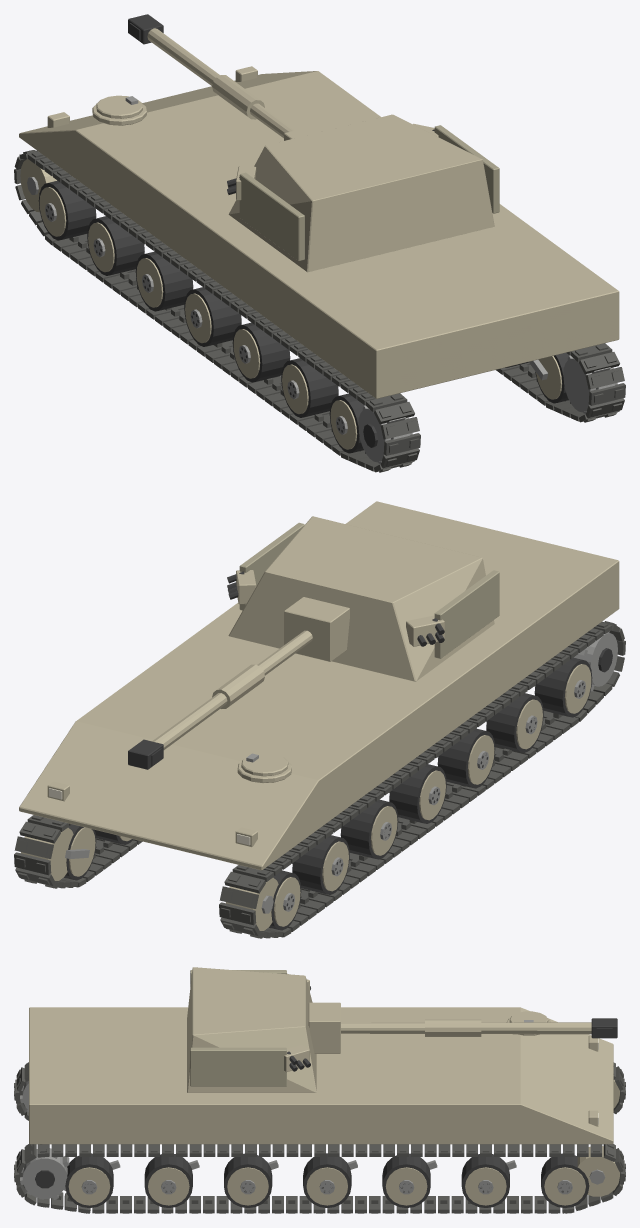
Rendered from rus_spg_gvoz.glb.
3 views of the same model, one above another, from view 1: azimuth 30°, elevation 25°; view 2: azimuth 150°, elevation 25°; view 3: azimuth 270°, elevation 25° (orthographic). The views are drawn at different scales.
Parts seen in each view (by area): view 1: body, turret, barrel; view 2: body, turret, barrel; view 3: body, turret, barrel.
Part boxes in pixels (x1=…): body: x1=14, y1=66, x2=625, y2=472; turret: x1=227, y1=114, x2=499, y2=272; barrel: x1=128, y1=14, x2=337, y2=140; body: x1=14, y1=501, x2=625, y2=938; turret: x1=227, y1=516, x2=499, y2=681; barrel: x1=128, y1=597, x2=349, y2=769; body: x1=14, y1=1007, x2=625, y2=1213; turret: x1=187, y1=967, x2=316, y2=1092; barrel: x1=308, y1=1002, x2=617, y2=1053.
Bounding box in the file's own units: 2.85 × 2.27 × 7.59.
